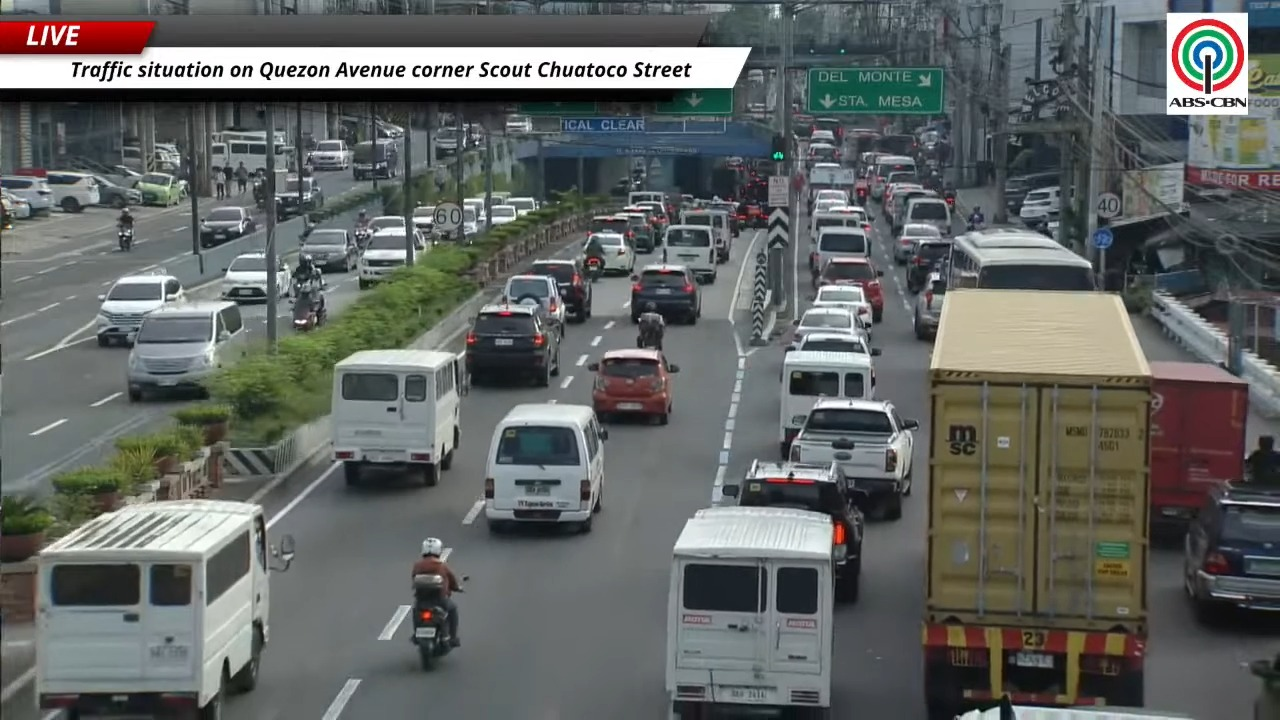bus: (945, 228, 1095, 290), (210, 132, 266, 171), (211, 129, 266, 142)
car: (722, 459, 865, 602), (1183, 481, 1279, 622), (465, 303, 560, 386), (587, 348, 678, 424), (95, 270, 185, 346), (815, 257, 884, 322), (357, 227, 424, 289), (631, 264, 700, 324), (502, 273, 565, 335), (530, 259, 592, 321), (221, 252, 291, 302), (788, 307, 865, 350), (812, 285, 872, 335), (300, 228, 358, 271), (906, 239, 951, 294), (199, 206, 256, 248), (44, 171, 100, 212), (913, 273, 946, 339), (0, 175, 53, 216), (794, 332, 881, 356), (276, 176, 324, 218), (587, 233, 635, 274), (893, 223, 941, 264), (134, 172, 183, 206), (93, 174, 141, 208), (1019, 186, 1060, 225), (619, 208, 655, 252), (634, 201, 671, 241), (308, 139, 353, 170), (707, 201, 740, 237), (586, 215, 629, 236), (0, 192, 31, 219), (463, 196, 488, 227), (737, 203, 767, 228), (368, 216, 405, 234), (489, 204, 518, 226), (413, 205, 434, 235), (507, 196, 538, 216), (505, 115, 533, 135), (812, 198, 846, 212)
motorcycle: (412, 574, 452, 670), (292, 287, 324, 331), (636, 329, 662, 350), (353, 226, 371, 249), (585, 257, 602, 281), (118, 226, 133, 251)
truck: (922, 289, 1152, 716), (1150, 362, 1248, 538), (789, 397, 918, 519)
